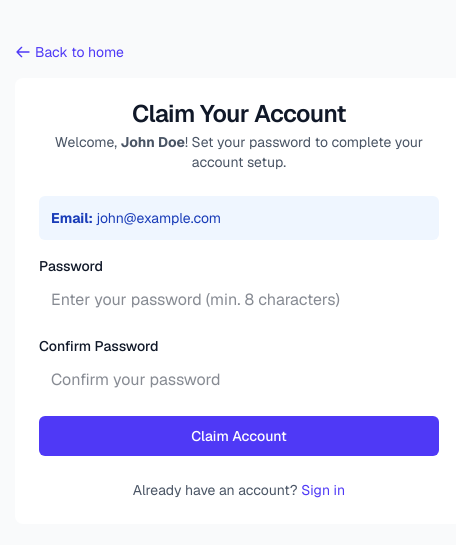
Test: ClaimAccountPage › should show error when password is too short
In the password field labelled "Password": (239, 300) [39,280,439,320], type "short"
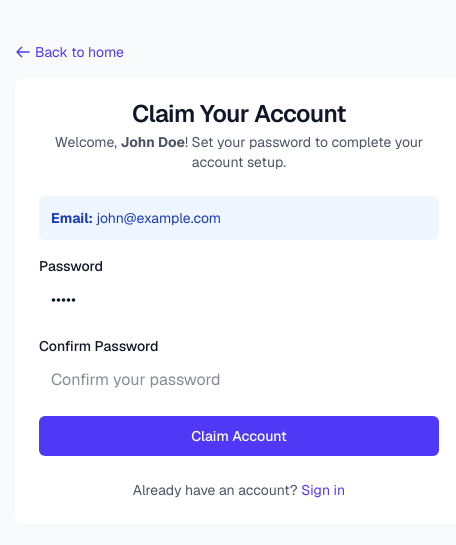
In the password field labelled "Confirm Password": (239, 380) [39,360,439,400], type "short"
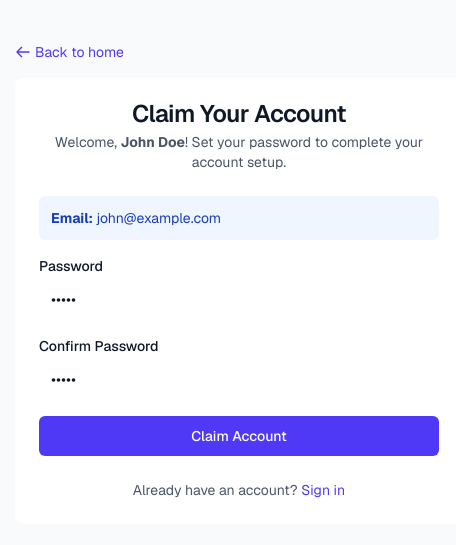
Click the button "Claim Account": (239, 436) [39,416,439,456]
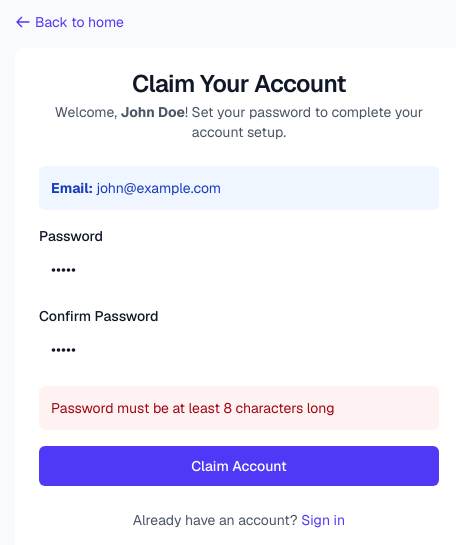
expect the text "Password must be at least 8 characters long" is shown: met, box [51,399,334,417]
